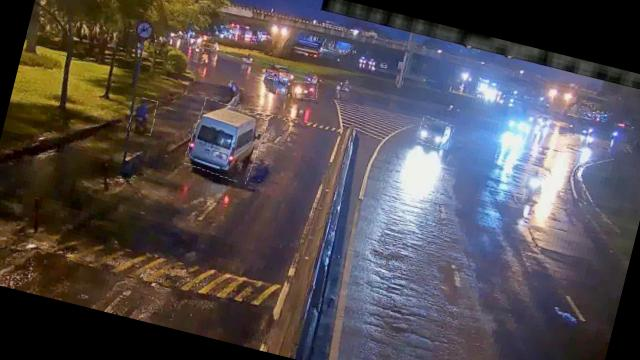Bike: (128, 97, 158, 136), (520, 165, 546, 206)
Bus: (184, 98, 268, 184)
Car: (415, 116, 454, 150), (290, 79, 320, 103)
